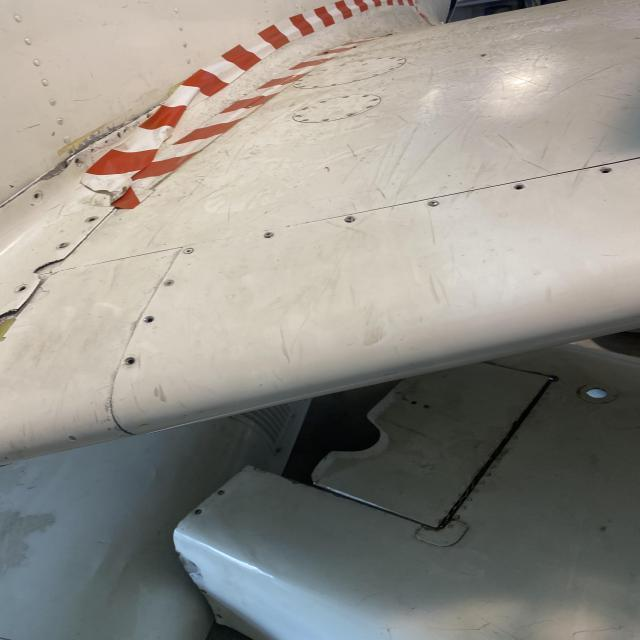Crack: (38, 148, 80, 185), (26, 258, 70, 282), (0, 305, 25, 347)
Missing_Fastener: (596, 166, 616, 175), (122, 356, 136, 366), (511, 182, 526, 191), (16, 284, 29, 293), (84, 216, 100, 223), (31, 192, 45, 200), (143, 315, 154, 323)
